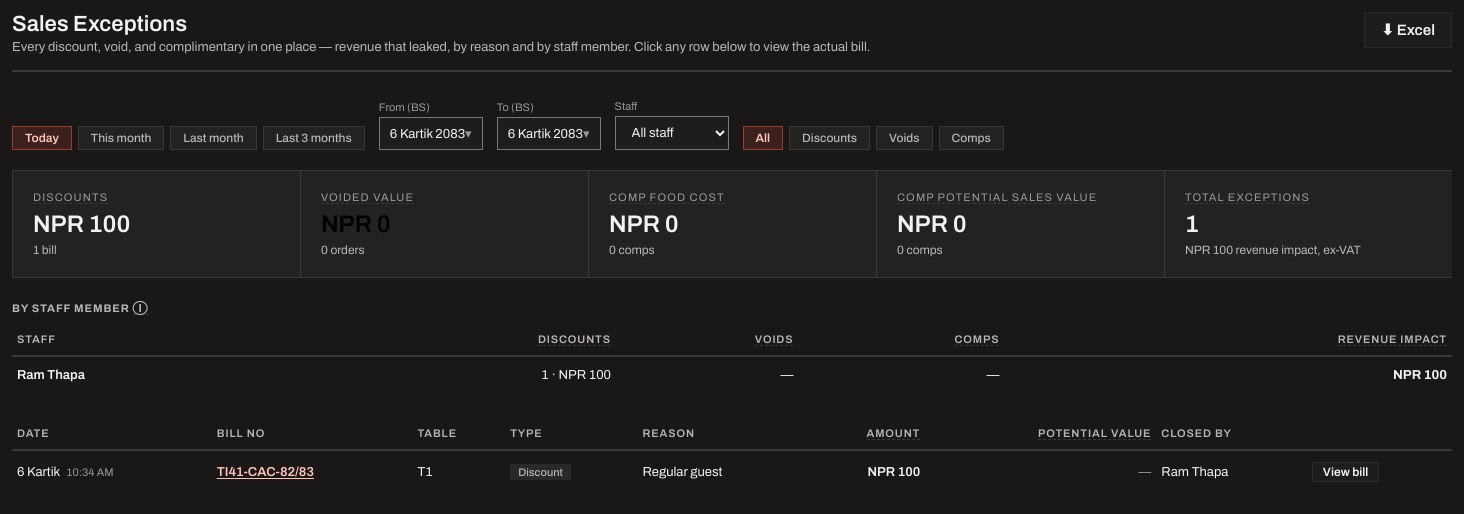
Test: a person picked for one range stays the shown filter in a range where they closed nothing
Select "Ram Thapa" in the dropdown labelled "Staff" at x=672, y=133, box [614,116,728,150]
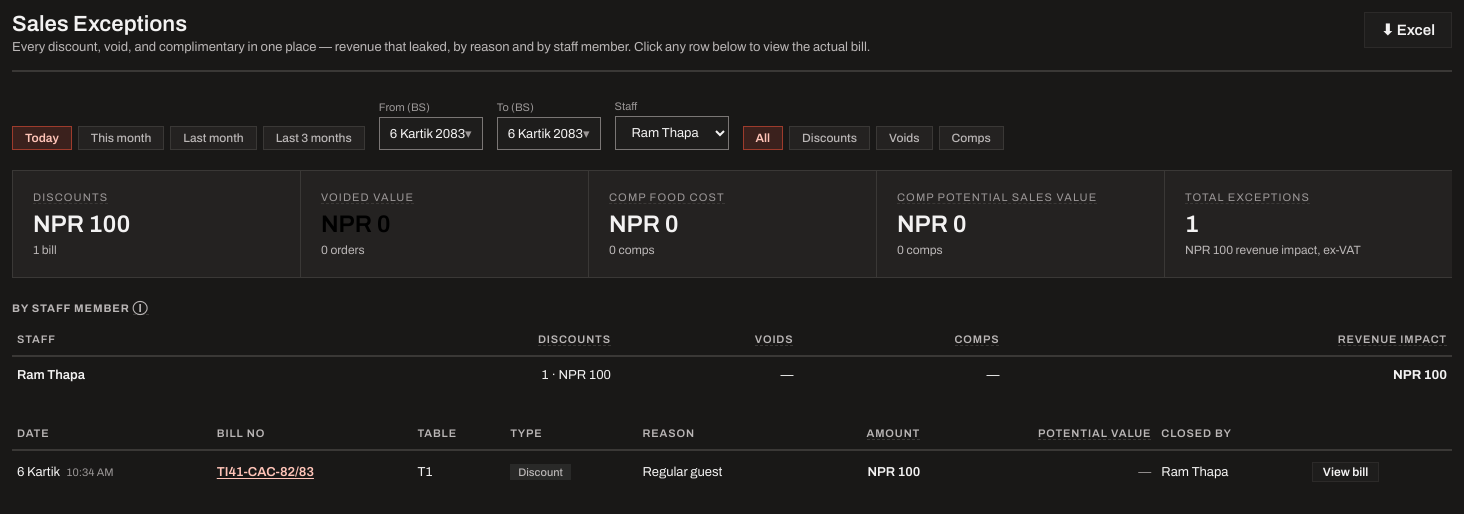
Expected: the text "Ram Thapa" in the row of "10:34 AM" is shown, [1161,465,1228,479]
Click the button "Last month" at x=214, y=138, box [170,126,257,150]
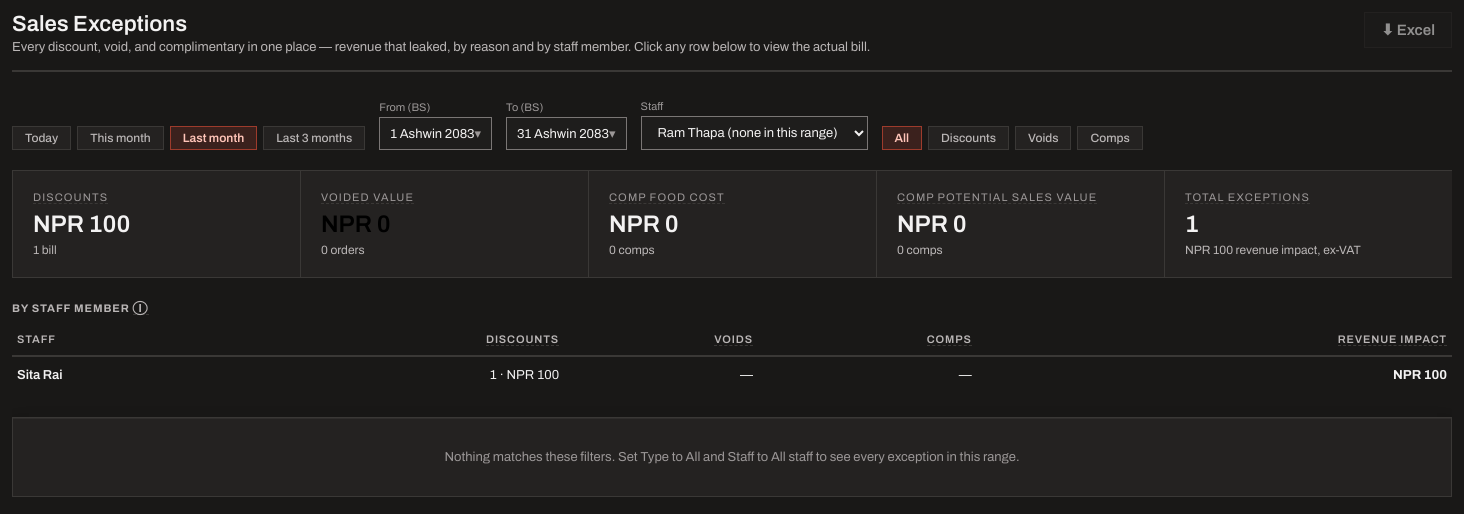
Now the text "Nothing matches these filters" is shown, box [444,450,1020,464]
Picking All staff is a real change now, and brings the range's rows back.
Select "All staff" in the dropdown labelled "Staff" at x=754, y=133, box [640,116,868,150]
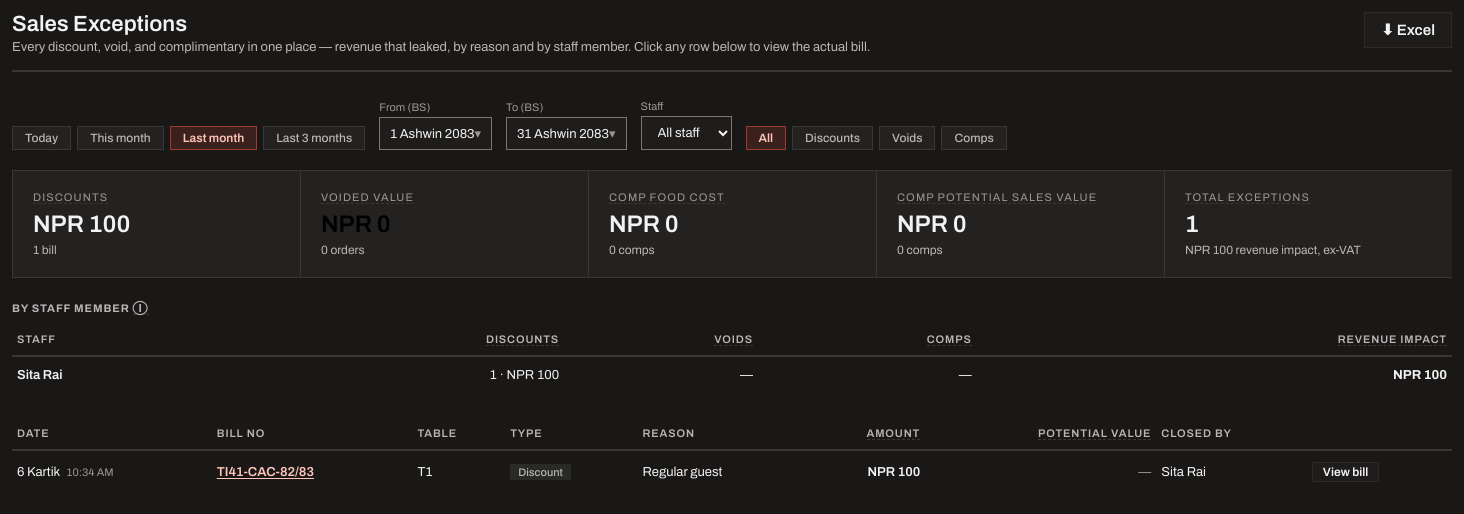
Expected: the option "none in this range" is not shown
Now the text "Sita Rai" in the row of "6 Kartik" is shown, box [1161,465,1206,479]
